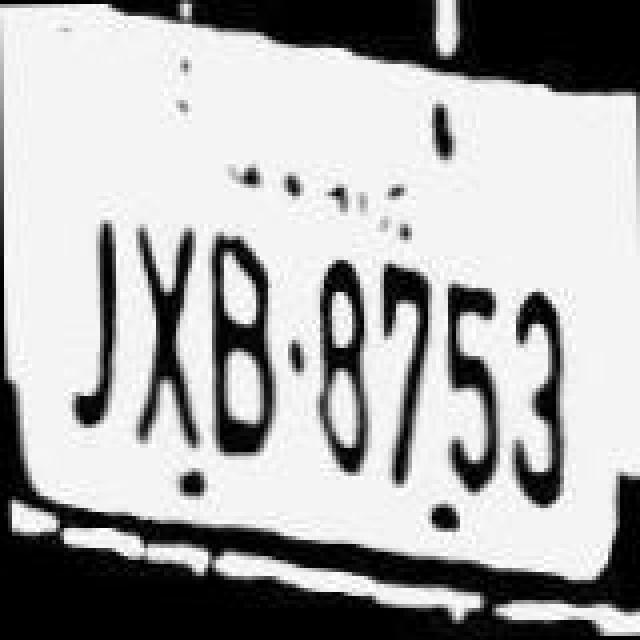3: (502, 276, 582, 516)
5: (432, 268, 508, 512)
7: (372, 264, 440, 524)
8: (294, 248, 370, 504)
B: (194, 216, 278, 476)
J: (48, 202, 128, 446)
X: (116, 200, 204, 460)
